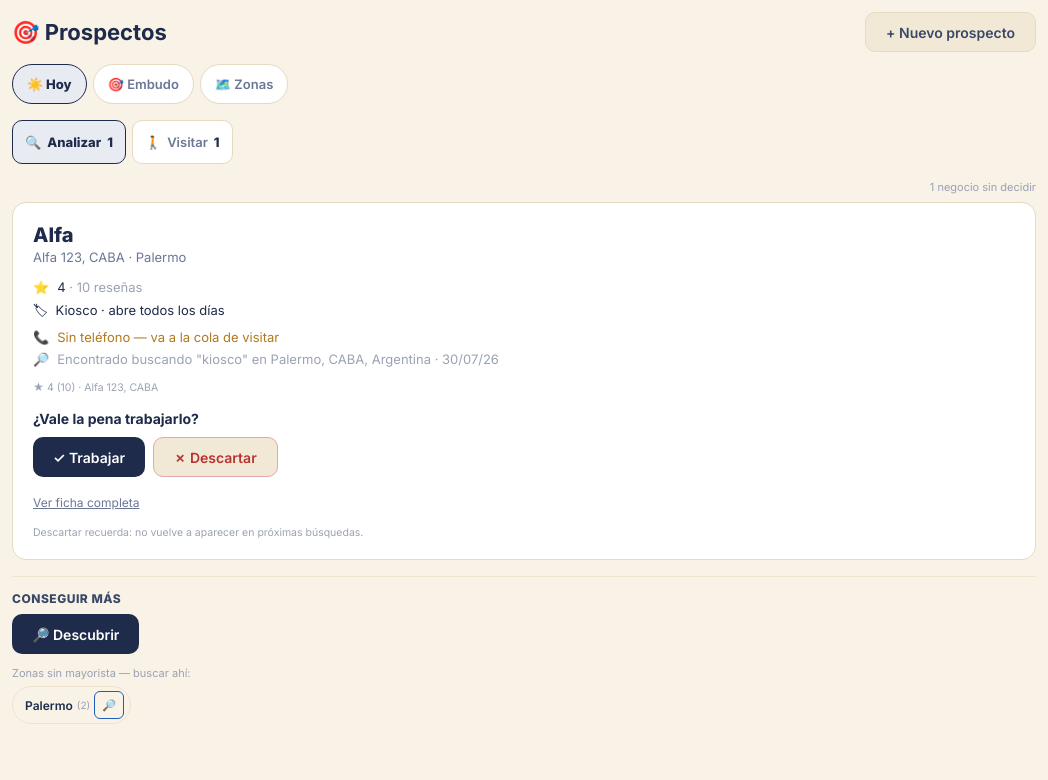
Test: Prospectos (módulo) — auto-ingesta reflejada en la pestaña Hoy (F2) › sin analizar solo aparece en 🔍; el analizado pasa a su cola de ejecución
Expected: the text "1 negocio sin decidir" is shown, [930,180,1036,194]
Expected: the text "Alfa" is shown, [33,223,74,247]
// Beta (sin teléfono ⇒ regla automática) espera en "Visitar".
Click the button "🚶 Visitar 1": {"x": 182, "y": 142} [132,120,233,164]
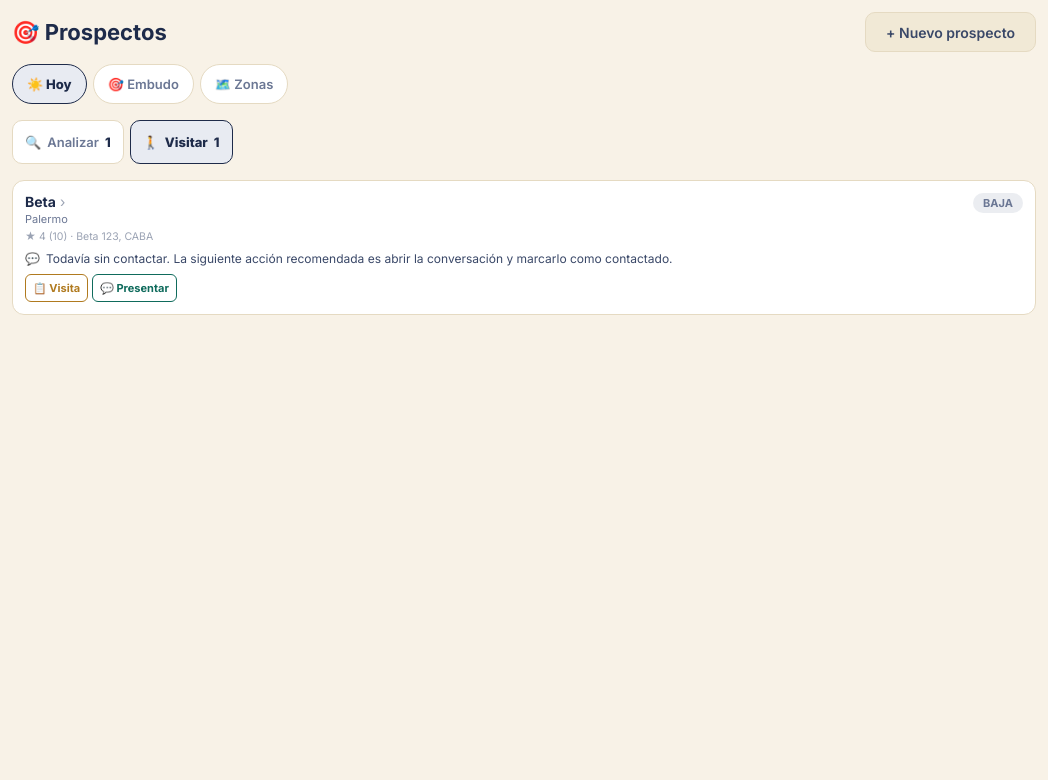
Expected: the text "Beta ›" is shown, [25,193,65,210]
Expected: the text "Alfa" is gone
